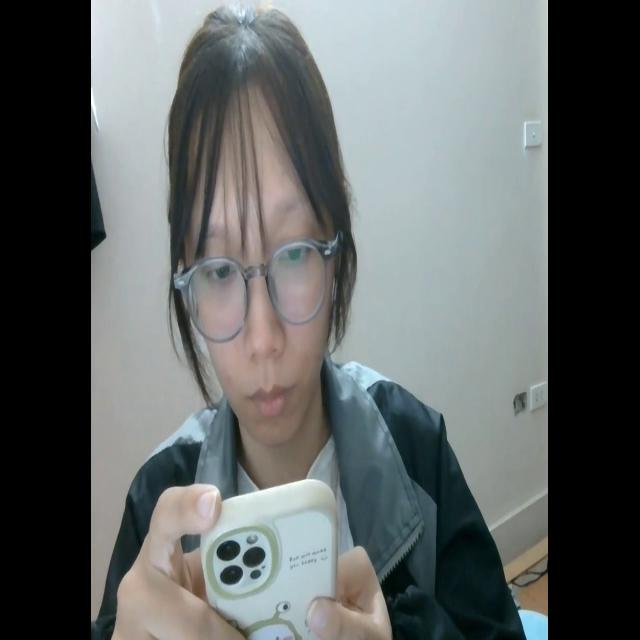phone: (198, 474, 339, 640)
student: (99, 8, 523, 640)
